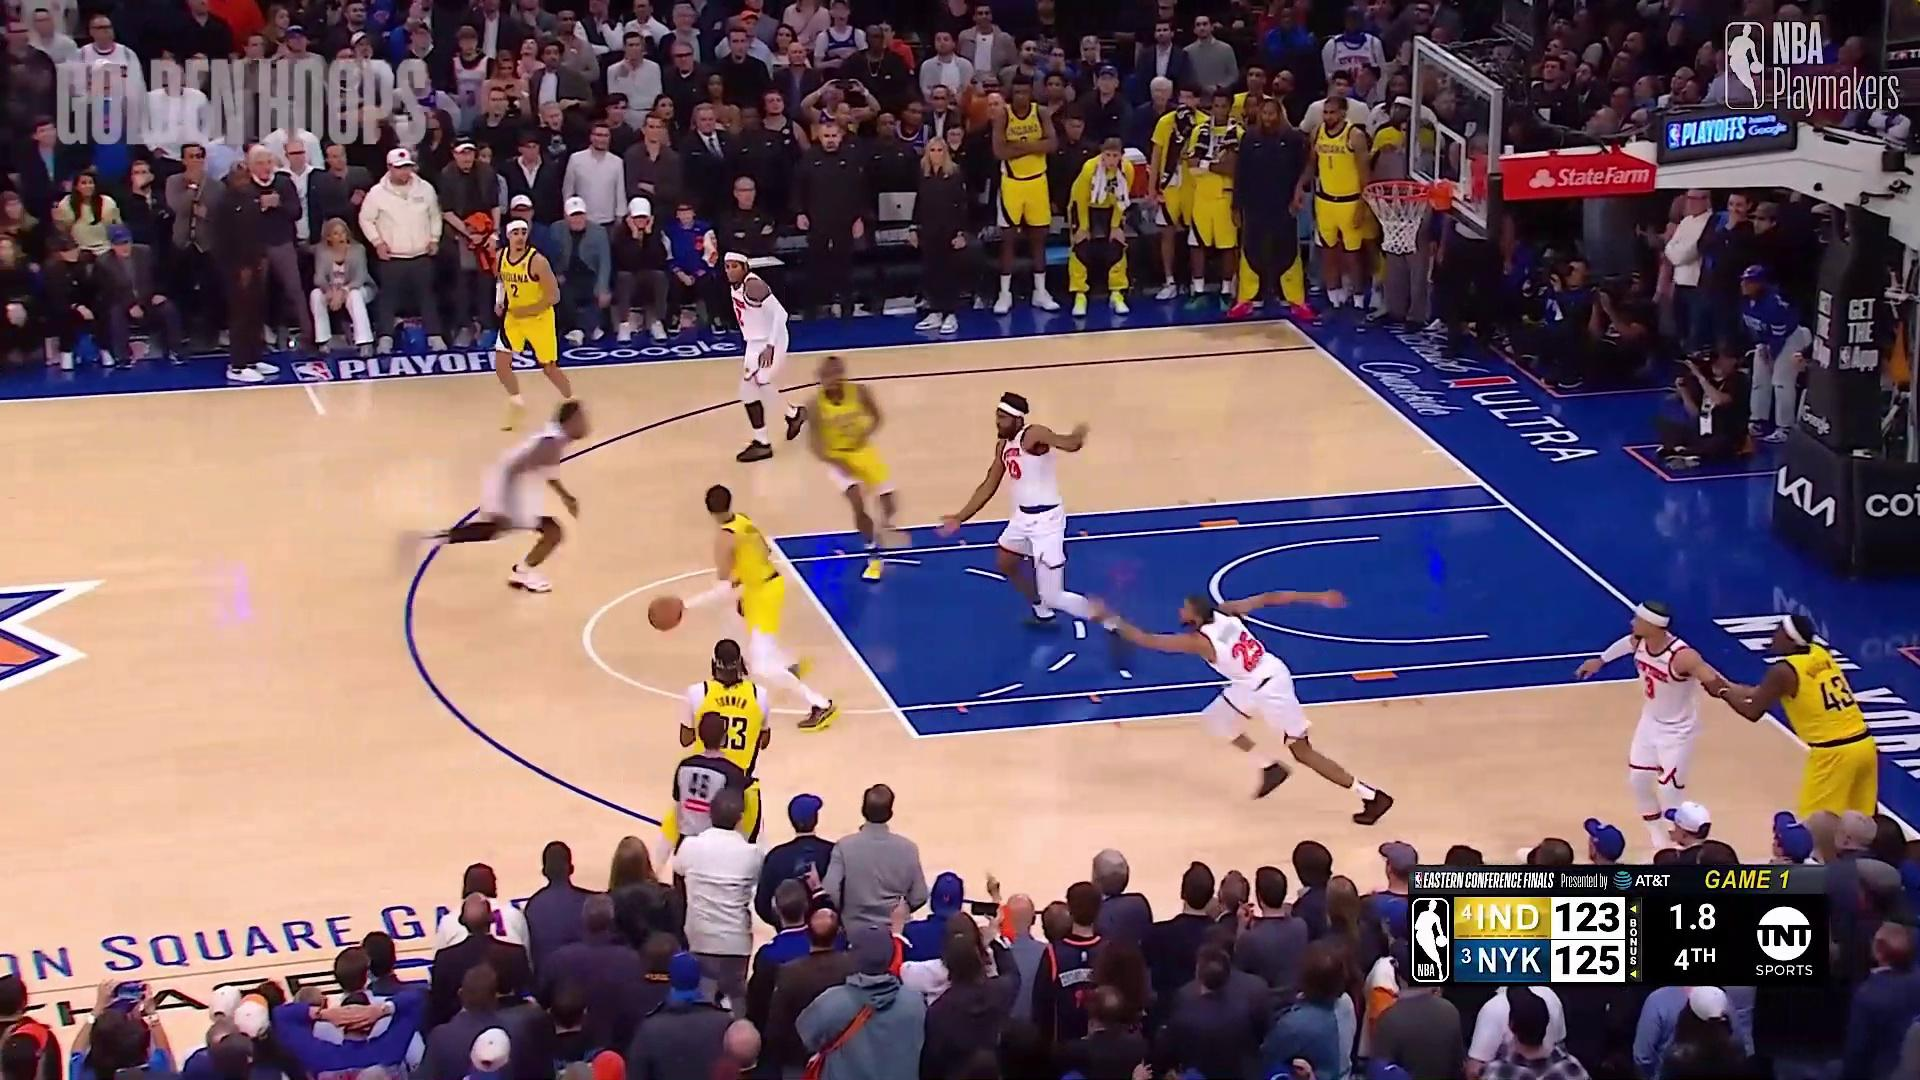ball: (646, 592, 683, 632)
hoop: (1364, 157, 1433, 261)
